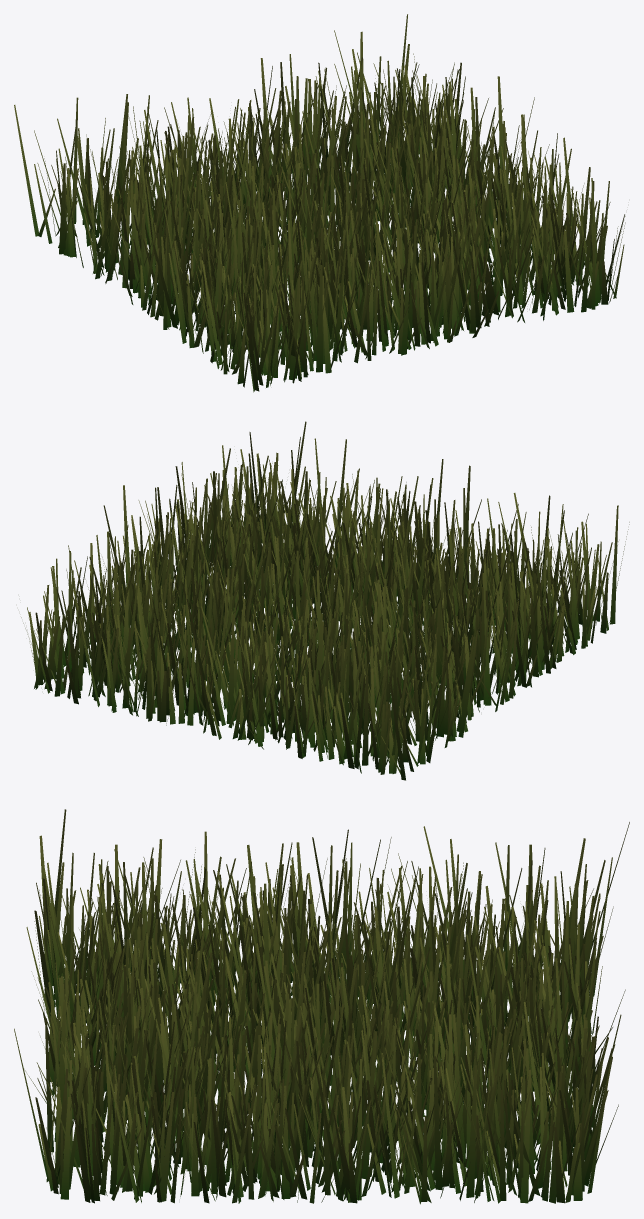
Rendered from Turf_Wild_v1.glb.
3 renders of one model, top to bottom at view 1: azimuth 30°, elevation 25°; view 2: azimuth 150°, elevation 25°; view 3: azimuth 270°, elevation 25°, orthographic. The views are drawn at different scales.
Visible parts, largest first — view 1: Turf_Wild_v1; view 2: Turf_Wild_v1; view 3: Turf_Wild_v1.
Part boxes in pixels (left/top/right/bottom): Turf_Wild_v1: left=14, top=14, right=625, bottom=392; Turf_Wild_v1: left=21, top=421, right=629, bottom=780; Turf_Wild_v1: left=14, top=809, right=629, bottom=1204.
Size of the model in its own units: 1.35 by 0.3971 by 1.38.
